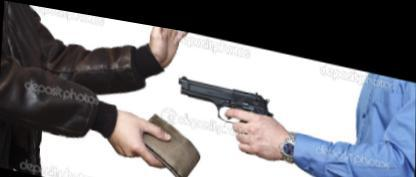pistol: (173, 64, 281, 152)
